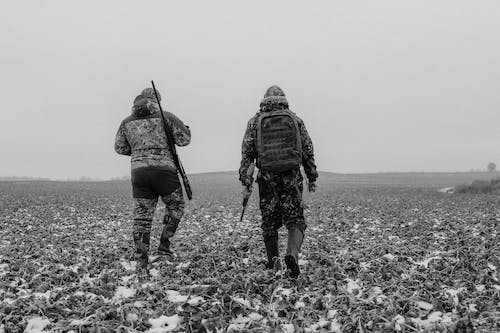gun: (149, 78, 195, 202), (238, 163, 256, 222)
